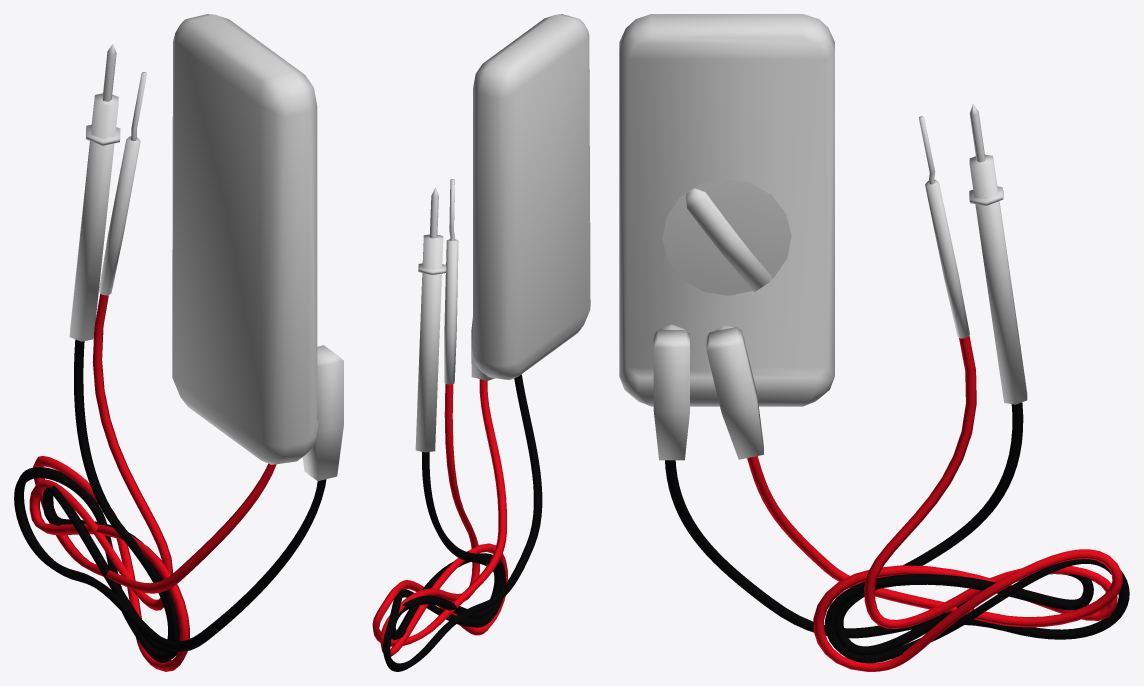
File: Tester compact skfab.fbx
3 views of the same model, side by side, from view 1: azimuth 30°, elevation 25°; view 2: azimuth 150°, elevation 25°; view 3: azimuth 270°, elevation 25° (orthographic). The views are drawn at different scales.
Parts seen in each view (by area): view 1: tester_low.001, BezierCurve, BezierCurve.001, probe_standart_low.001, connector_low.002, probe_diy_low.001; view 2: tester_low.001, BezierCurve, BezierCurve.001, probe_standart_low.001, probe_diy_low.001; view 3: tester_low.001, BezierCurve.001, BezierCurve, selector_wheel_low.001, probe_standart_low.001, connector_low.003, connector_low.002, probe_diy_low.001.
Boxes of the visible parts, left/top/right/bottom form: tester_low.001: left=172, top=14, right=318, bottom=464; BezierCurve: left=14, top=339, right=326, bottom=662; BezierCurve.001: left=29, top=293, right=276, bottom=671; probe_standart_low.001: left=69, top=44, right=120, bottom=341; connector_low.002: left=302, top=345, right=343, bottom=480; probe_diy_low.001: left=98, top=72, right=146, bottom=295; tester_low.001: left=471, top=14, right=590, bottom=379; BezierCurve: left=383, top=374, right=542, bottom=671; BezierCurve.001: left=372, top=379, right=507, bottom=656; probe_standart_low.001: left=415, top=187, right=446, bottom=452; probe_diy_low.001: left=444, top=179, right=458, bottom=384; tester_low.001: left=619, top=14, right=834, bottom=406; BezierCurve.001: left=747, top=335, right=1122, bottom=671; BezierCurve: left=665, top=402, right=1129, bottom=663; selector_wheel_low.001: left=662, top=179, right=791, bottom=295; probe_standart_low.001: left=969, top=104, right=1027, bottom=404; connector_low.003: left=706, top=325, right=763, bottom=459; connector_low.002: left=653, top=324, right=689, bottom=460; probe_diy_low.001: left=919, top=116, right=969, bottom=338.
Size of the model in its own units: 0.9558 by 6.71 by 4.7.
